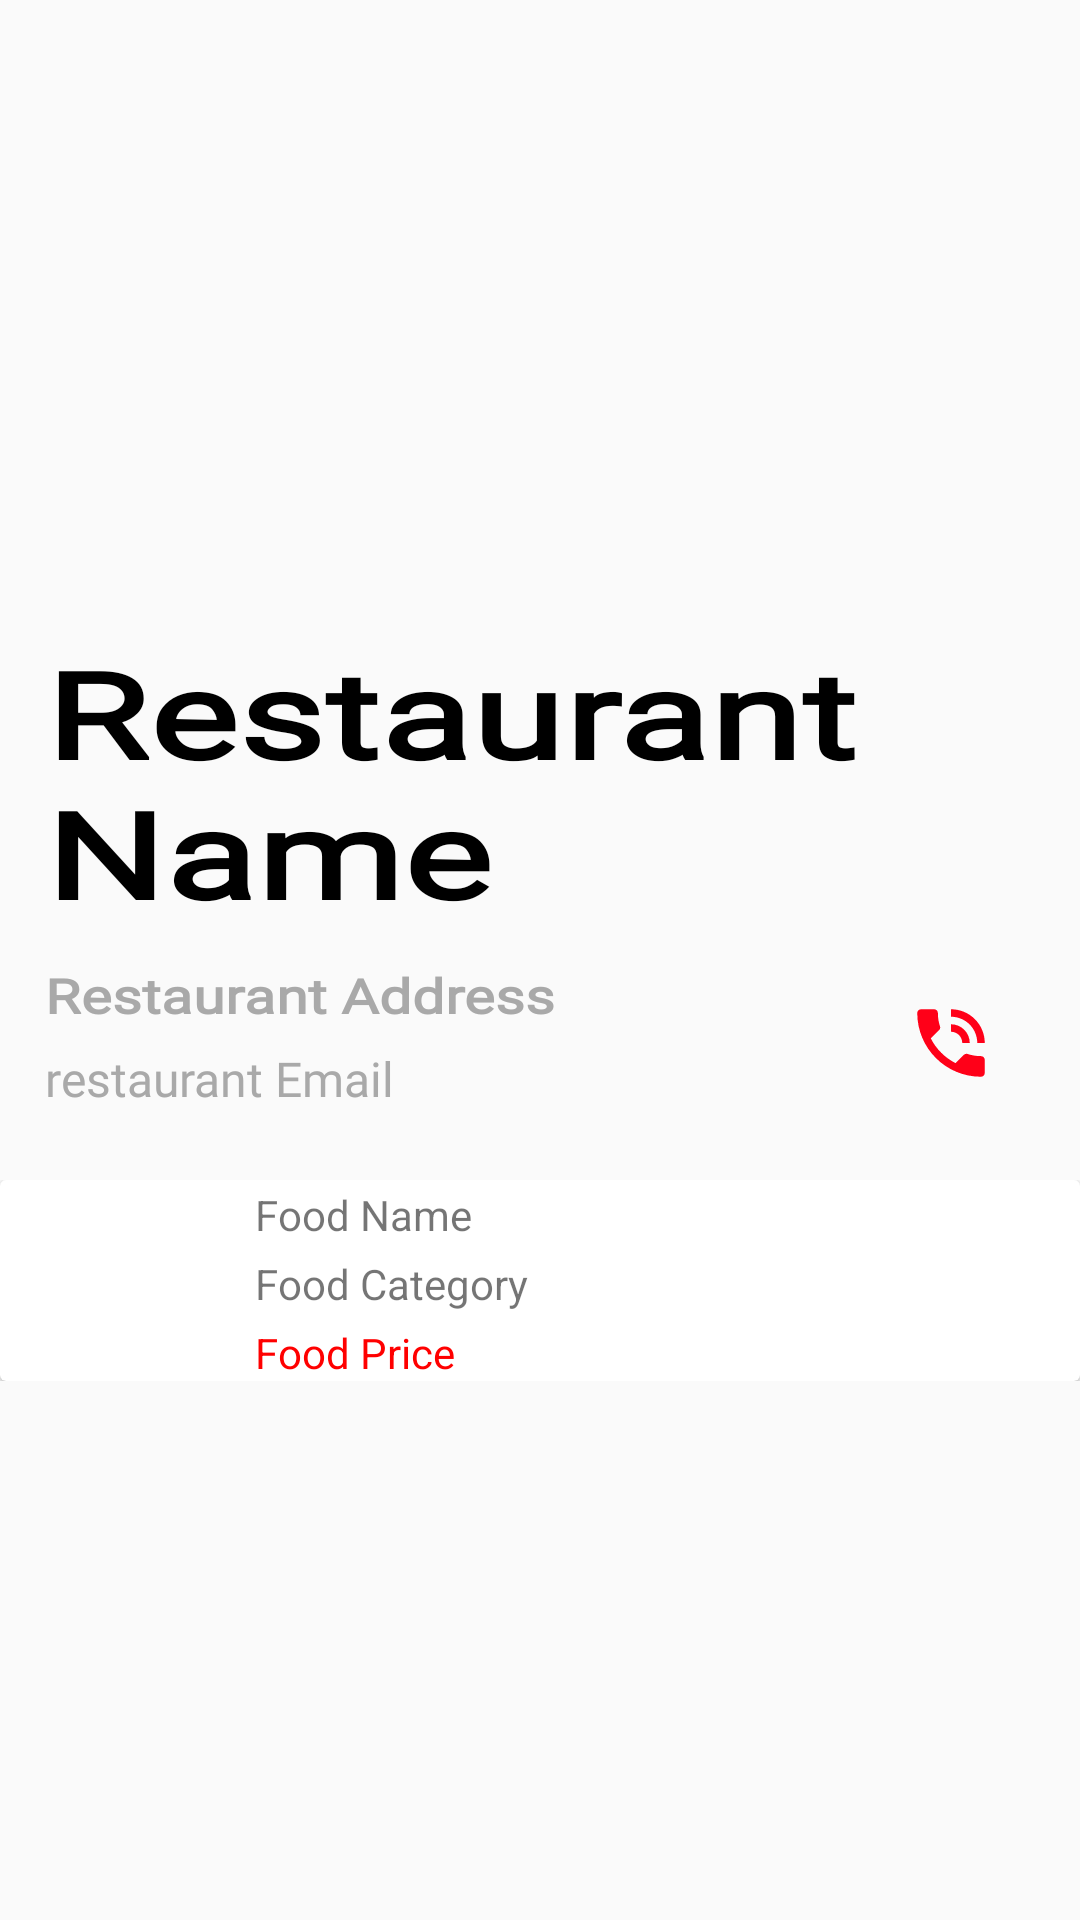

Named icons in this screenshot (1080px×1920px) and their centers, (x=x, y=y):
phone: (x=951, y=1043)
